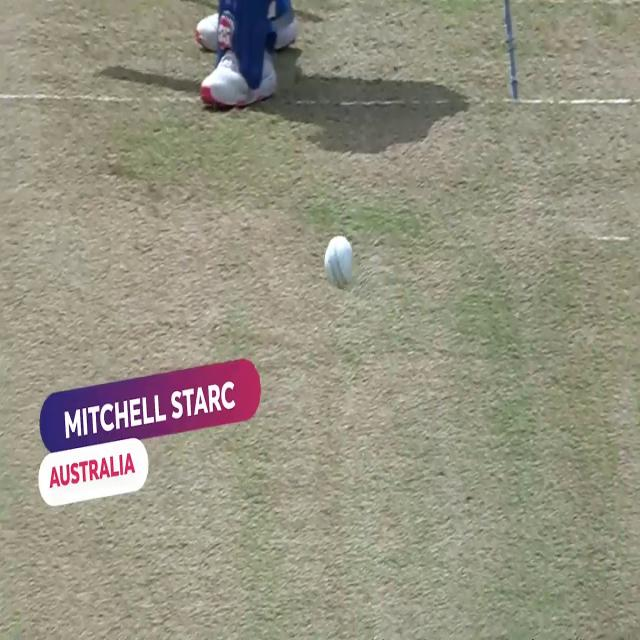ball: (322, 231, 356, 289)
